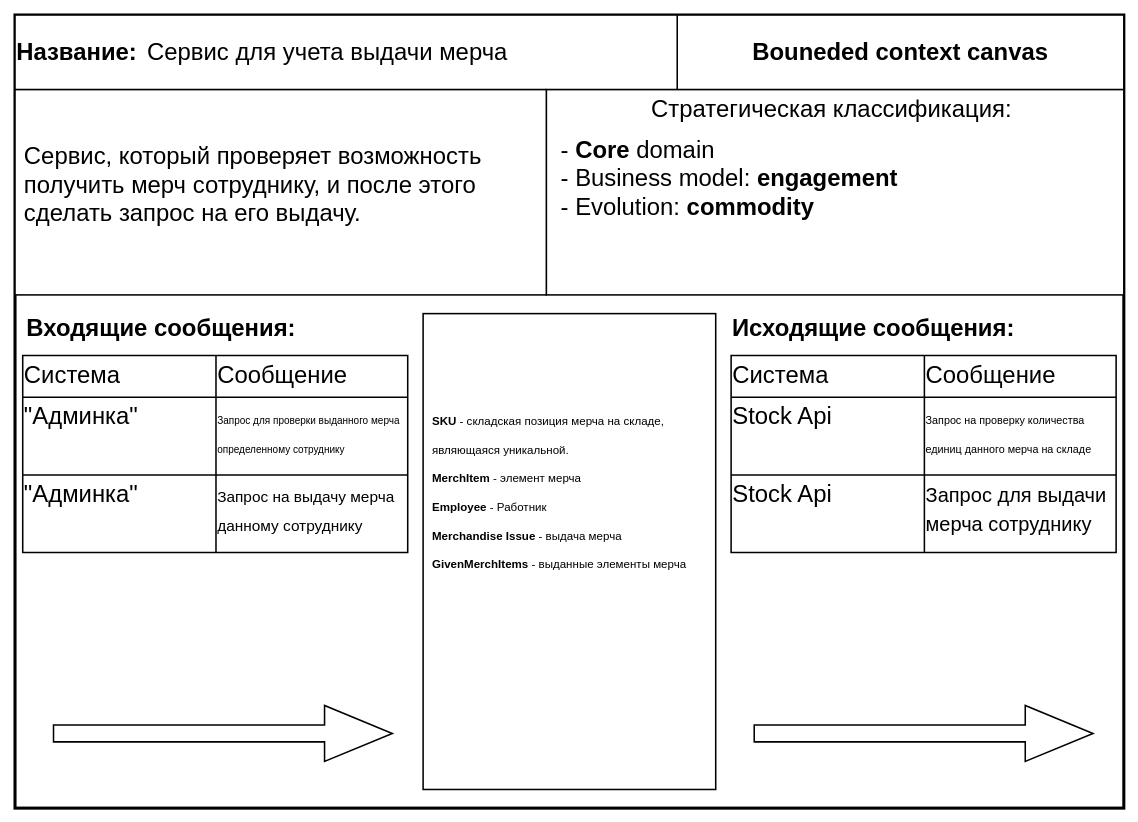
Some shapes in this 1138 by 822 pixel diagram are drawn without their labels. Each missing label, with the box of its shape:
Ubiquitous Language специфическая доменная терминология: (422, 312, 716, 790)
Описание:: (14, 88, 547, 295)
